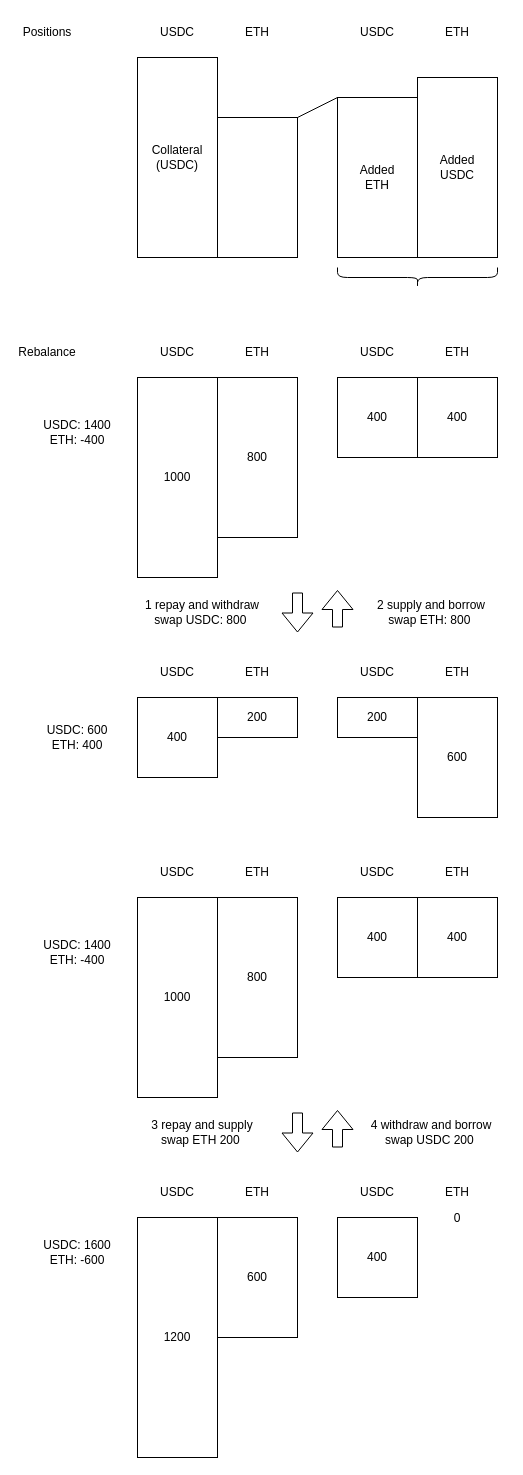
This 523x1475 diagram has some shape labels left out. Each missing label, with the centre of its shape:
"Debt (ETH)" belongs at [257,187].
"UniswapV3Position" belongs at [417,277].
